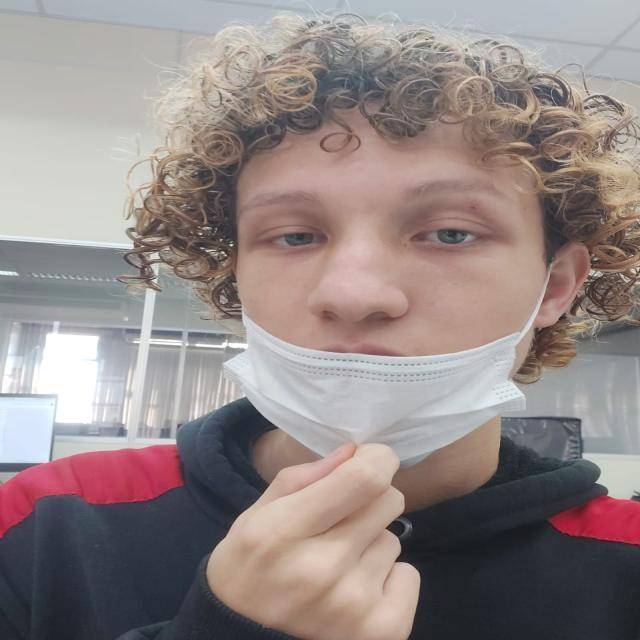hairnet: (233, 159, 528, 467)
